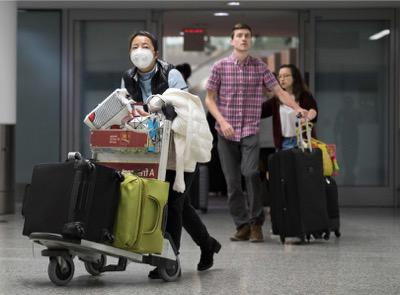with_mask: (129, 40, 154, 69)
without_mask: (232, 30, 251, 53), (276, 69, 294, 89)
